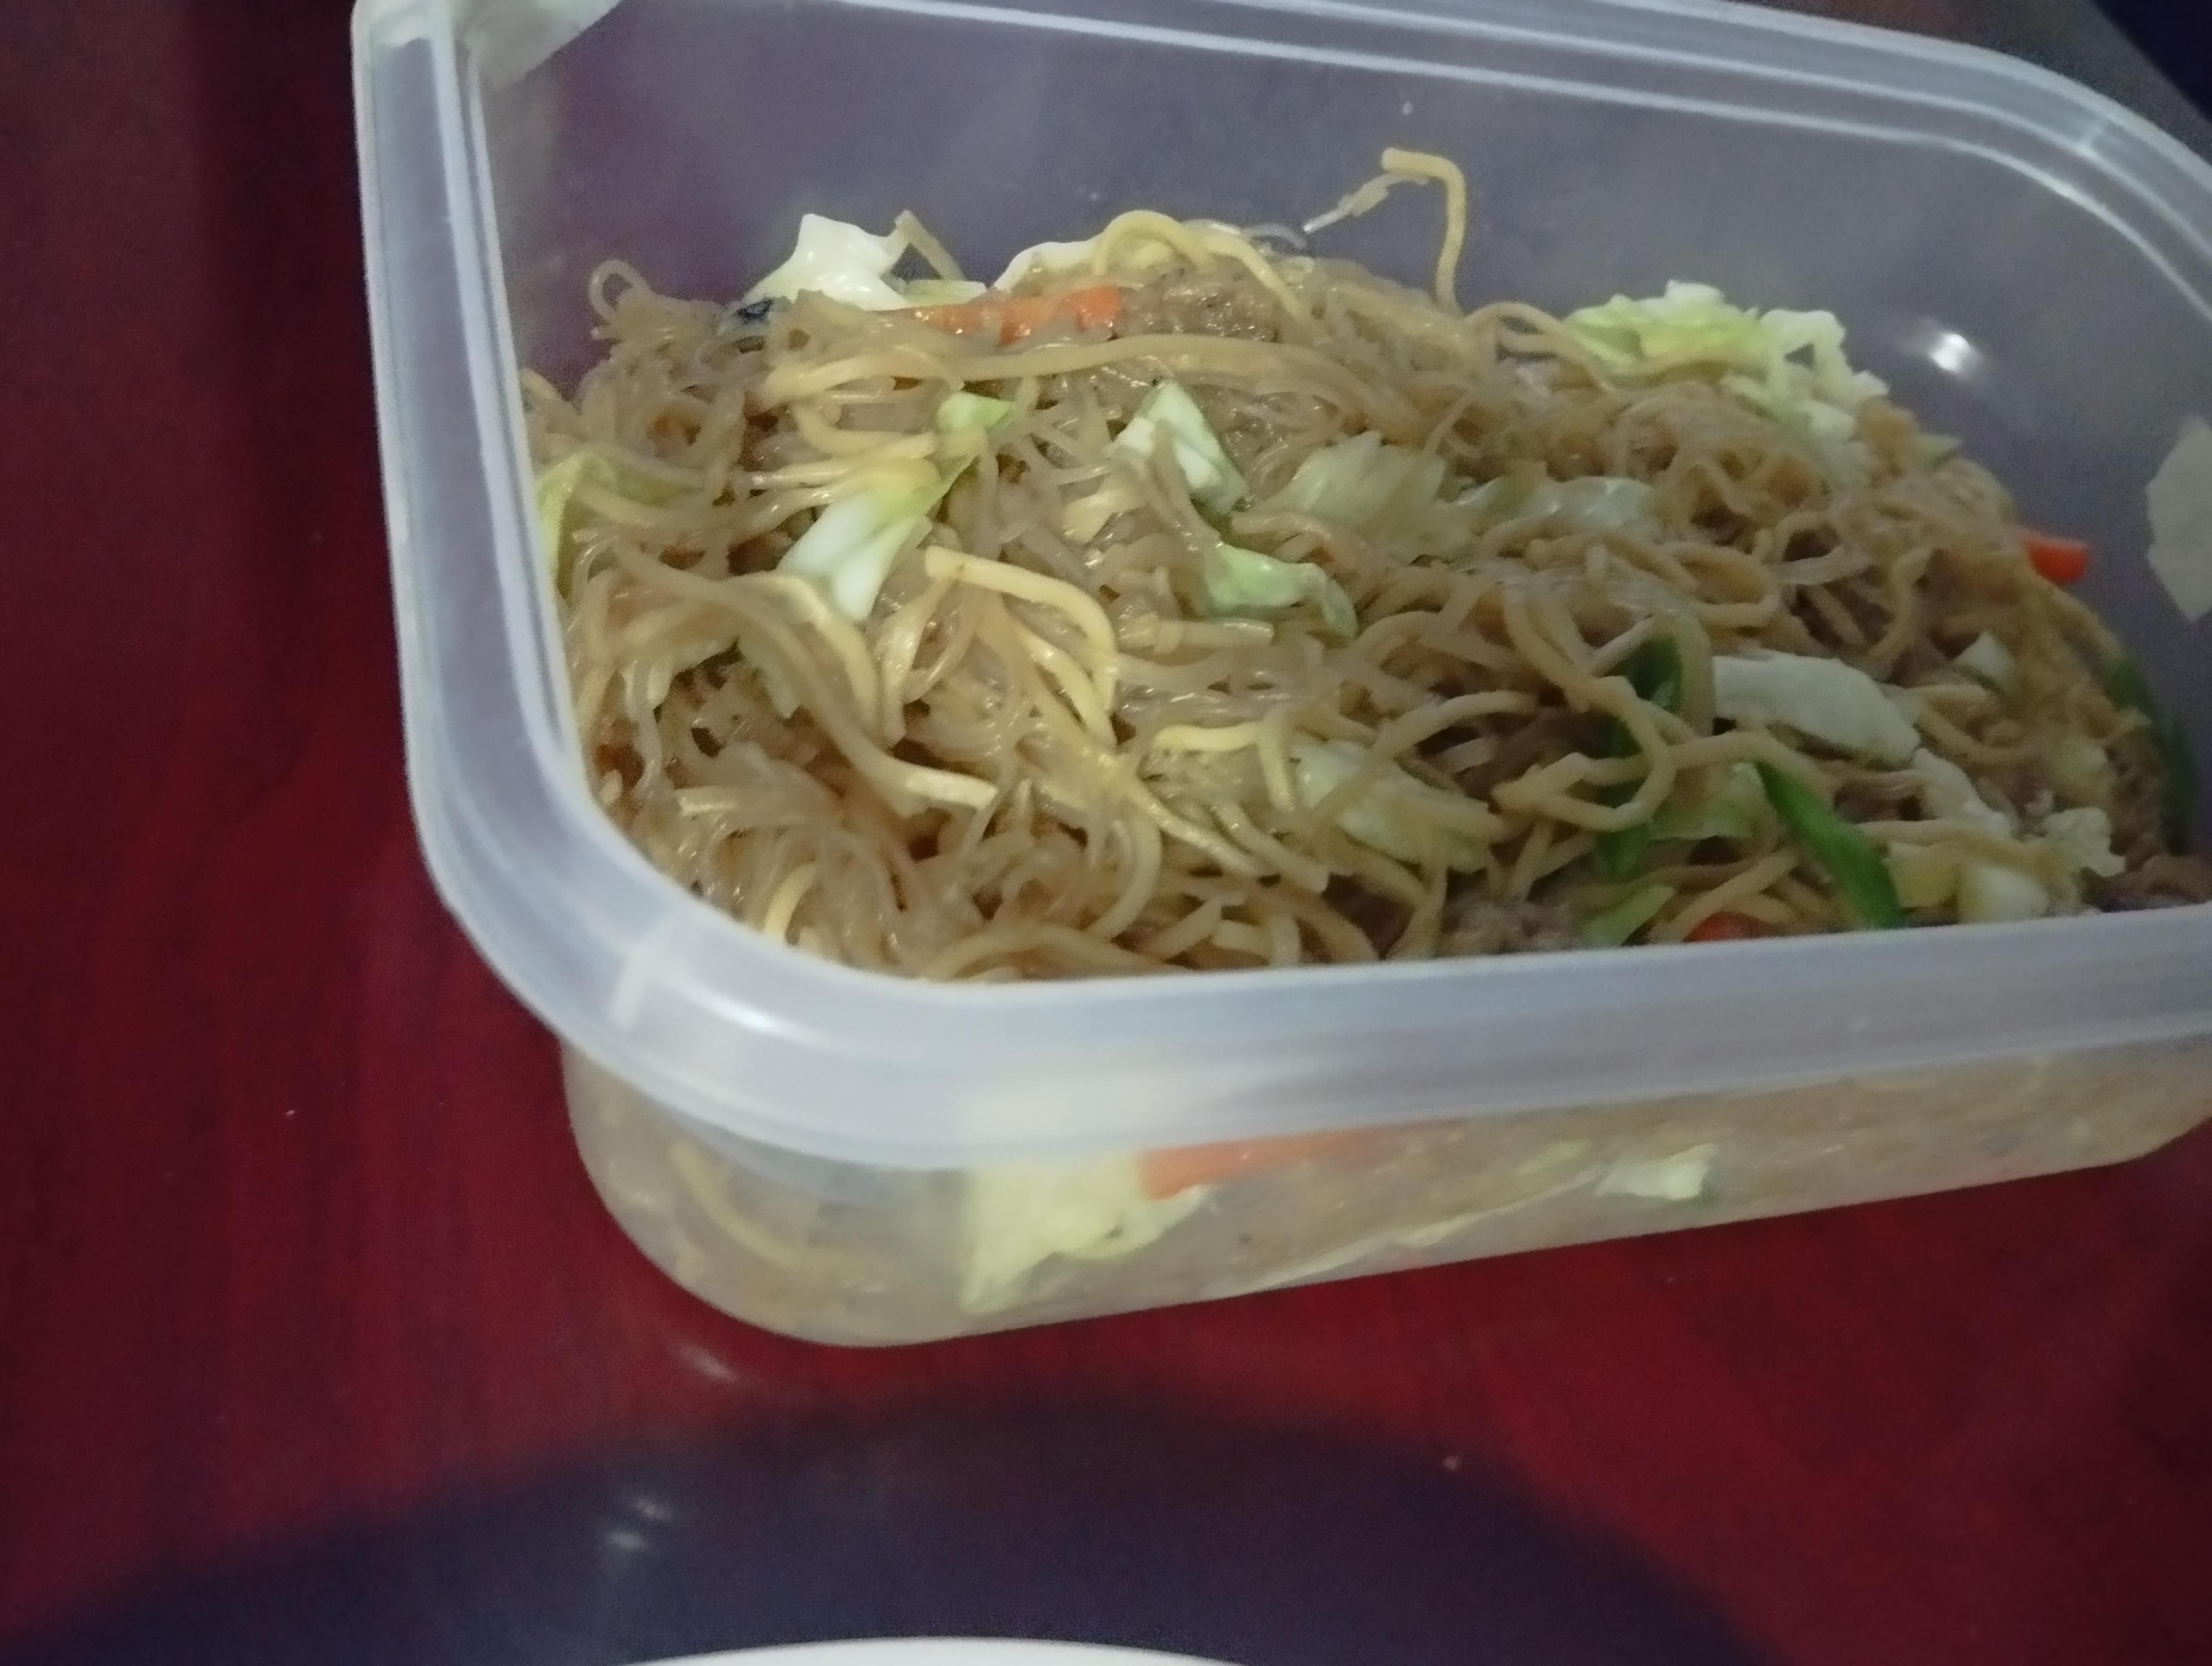pancit bihon: (474, 217, 2212, 998)
